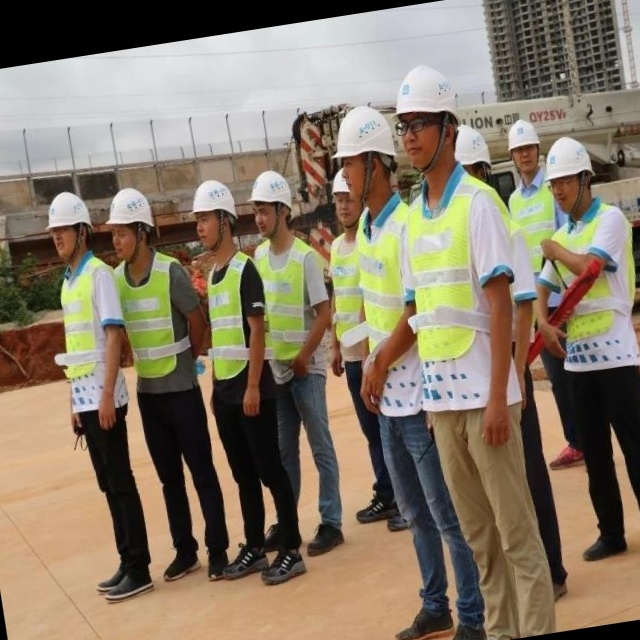Con_Casco: (541, 132, 597, 220), (103, 184, 159, 258), (245, 167, 299, 242), (189, 176, 243, 250)
Con_Chaleco: (396, 182, 530, 403), (116, 250, 204, 383), (47, 258, 130, 385), (255, 236, 333, 365), (196, 250, 271, 377), (319, 228, 375, 348)
